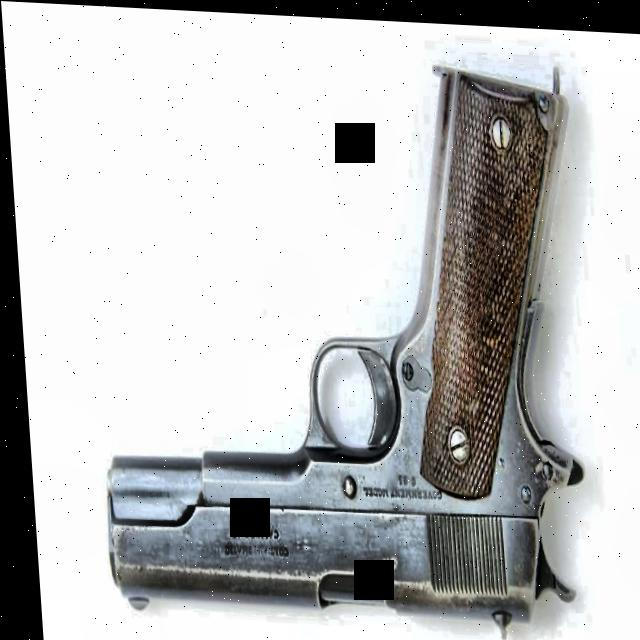Colt m1911: (72, 39, 597, 639)
